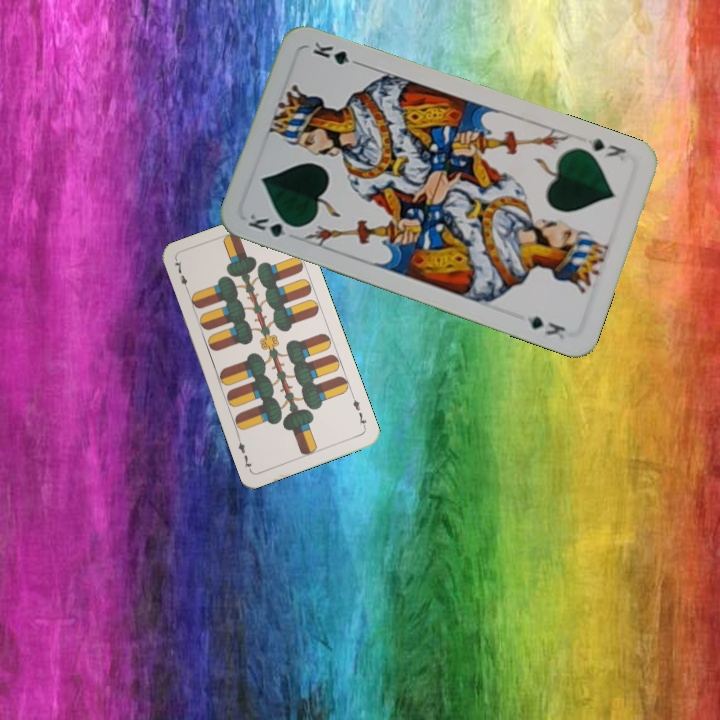E7: (348, 392, 369, 431), (170, 256, 191, 295)
GK: (244, 210, 302, 240), (582, 134, 630, 164)
